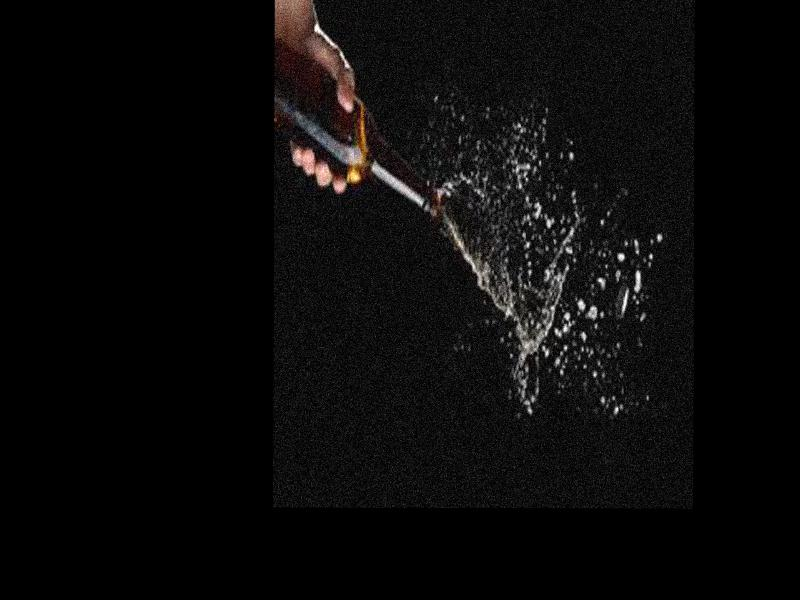Beer: (275, 33, 439, 221)
